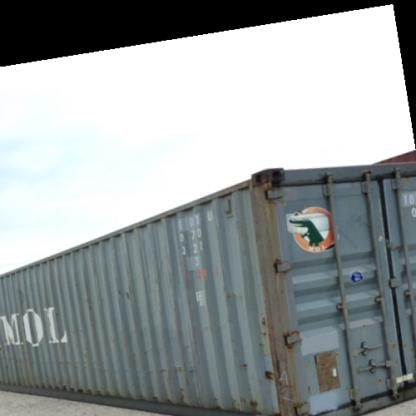Damage: (3, 282, 41, 386), (260, 354, 298, 392), (140, 357, 200, 379), (184, 286, 204, 344), (143, 385, 191, 405), (254, 310, 278, 347), (218, 286, 249, 306), (228, 393, 260, 408), (233, 354, 252, 375), (113, 284, 136, 300)
